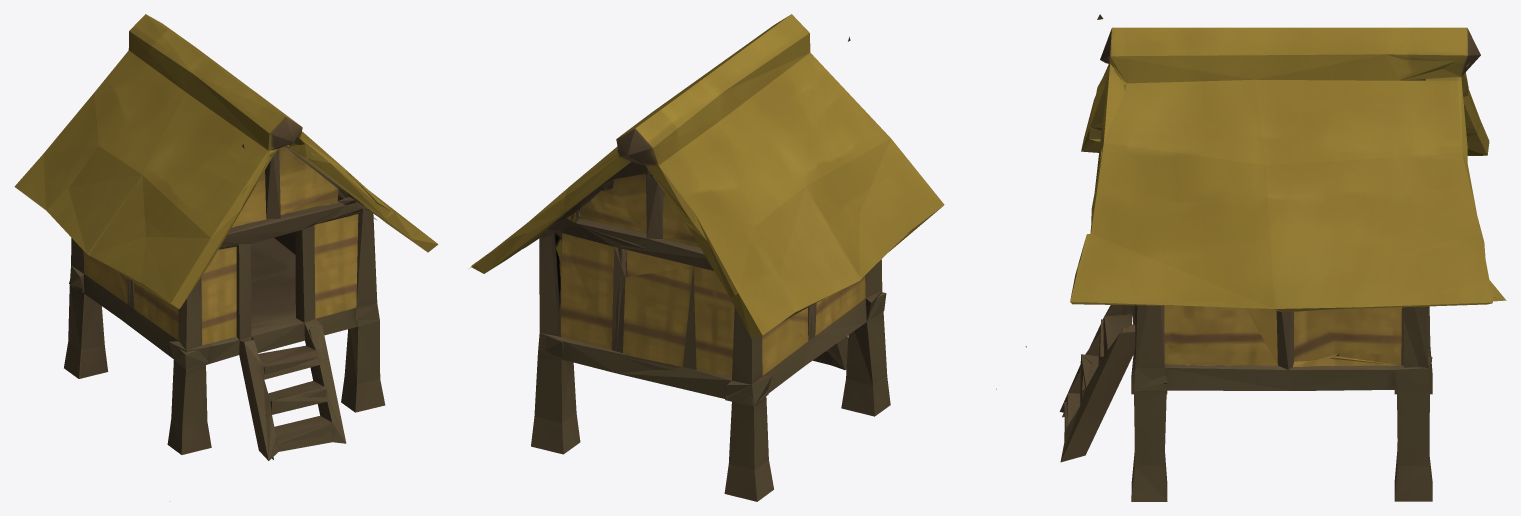
File: S1_field_hut_a.glb
3 renders of one model, left to right at view 1: azimuth 30°, elevation 25°; view 2: azimuth 150°, elevation 25°; view 3: azimuth 270°, elevation 25°, orthographic. The views are drawn at different scales.
Visible parts, largest first — view 1: trellis; view 2: trellis; view 3: trellis.
Part boxes in pixels (x1,y1,x2,y2): trellis: [14, 14, 438, 460]; trellis: [468, 14, 996, 501]; trellis: [1025, 14, 1506, 501].
Bounding box in the file's own units: 3.11 × 3.3 × 3.49.
1 material, 1 textured.
